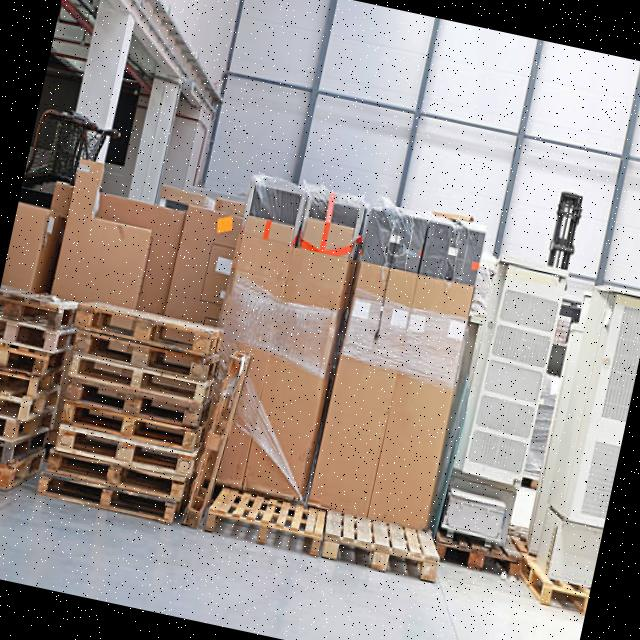Wooden-Pallets: (70, 292, 227, 363), (200, 484, 326, 562), (64, 343, 214, 408), (319, 507, 436, 584), (38, 449, 188, 506), (54, 402, 202, 457), (433, 534, 522, 582)
